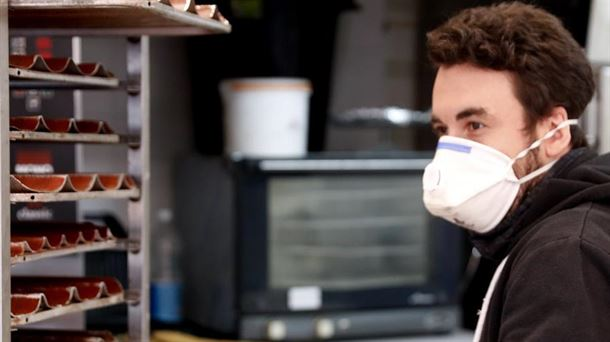with_mask: (419, 46, 591, 231)
